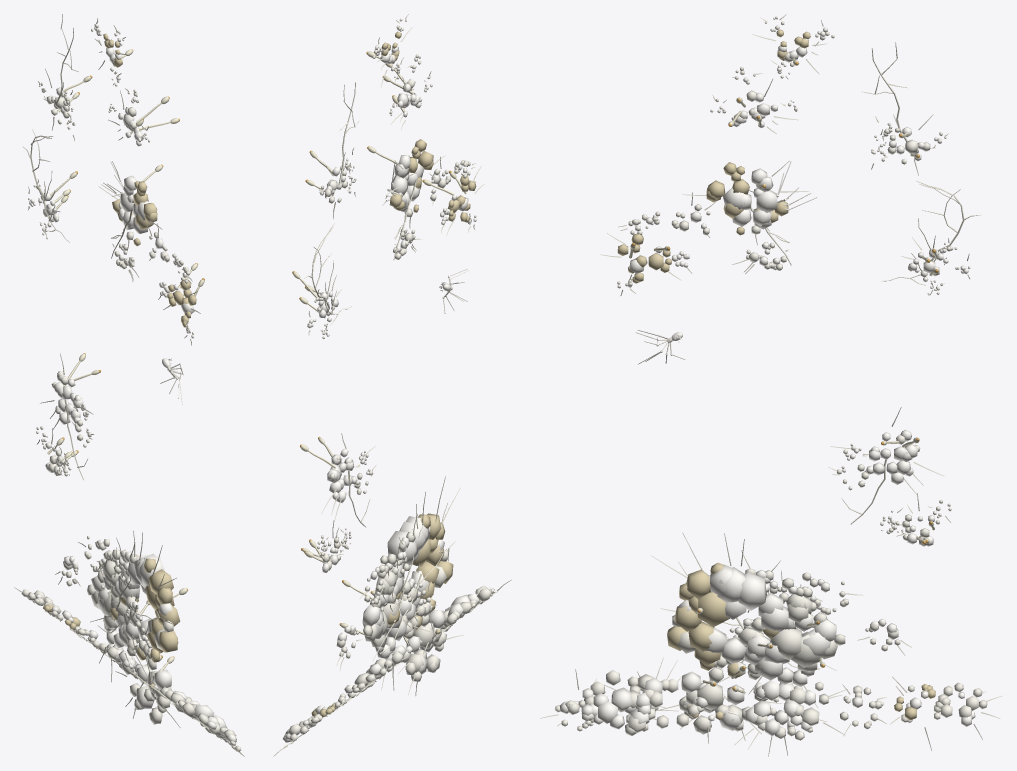
Rendered from fungus_wall@1.glb.
3 renders of one model, left to right at view 1: azimuth 30°, elevation 25°; view 2: azimuth 150°, elevation 25°; view 3: azimuth 270°, elevation 25°, orthographic. The views are drawn at different scales.
Parts seen in each view (by area): view 1: teil1, teil2, teil0, teil3, teil5, teil4, teil8; view 2: teil1, teil2, teil0, teil3, teil5, teil4; view 3: teil1, teil2, teil0, teil3, teil4, teil5.
Part boxes in pixels (<box>): teil1: <box>29,24,236,742</box>; teil2: <box>21,27,241,751</box>; teil0: <box>43,33,196,688</box>; teil3: <box>14,18,244,756</box>; teil5: <box>47,49,204,671</box>; teil4: <box>22,14,165,688</box>; teil8: <box>98,161,183,404</box>; teil1: <box>283,28,491,742</box>; teil2: <box>285,18,494,741</box>; teil0: <box>311,31,476,717</box>; teil3: <box>273,14,511,756</box>; teil5: <box>293,51,467,645</box>; teil4: <box>304,82,449,653</box>; teil1: <box>559,27,975,736</box>; teil2: <box>555,16,987,740</box>; teil0: <box>617,29,935,720</box>; teil3: <box>540,14,1002,756</box>; teil4: <box>723,42,980,702</box>; teil5: <box>629,58,938,693</box>.
Size of the model in its own units: 0.1744 by 1.83 by 1.06.
